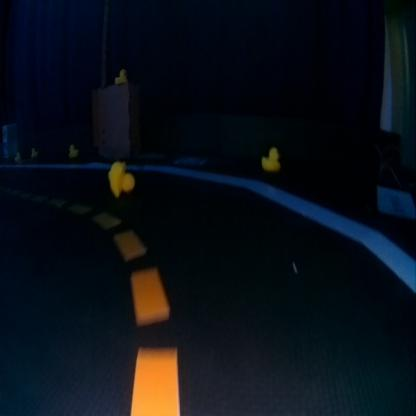Duckie: (108, 160, 133, 197), (260, 146, 280, 170), (114, 67, 127, 83), (67, 143, 78, 159), (30, 147, 36, 155), (14, 152, 20, 158)
QR code: (174, 154, 207, 166)
